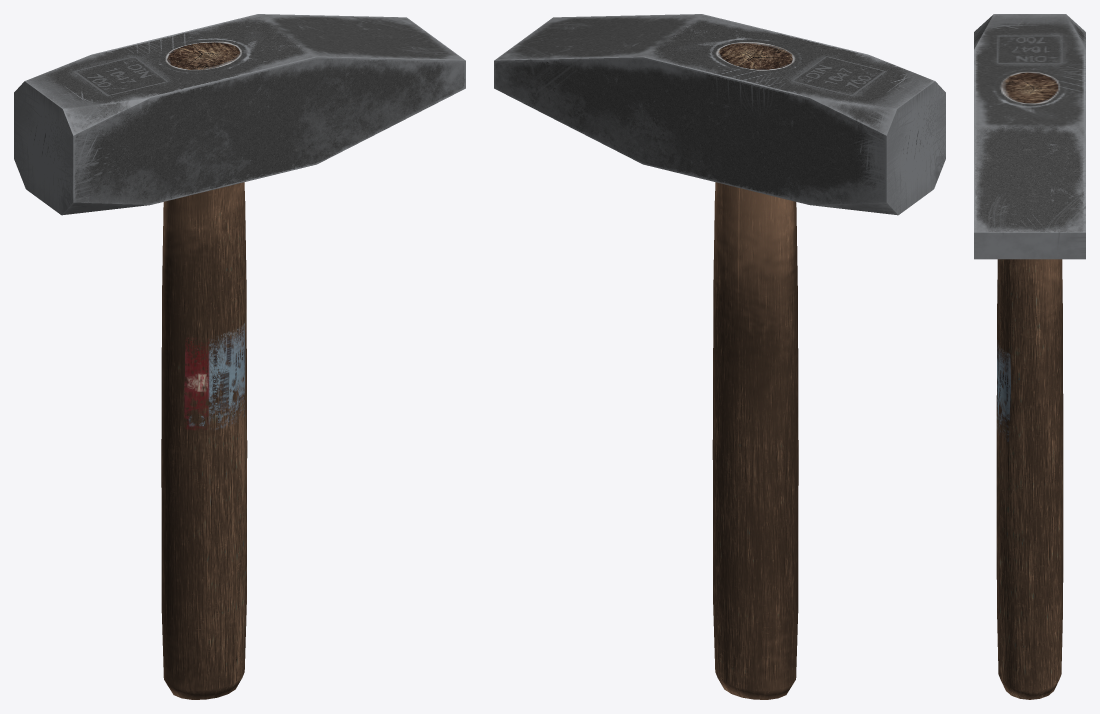
Rendered from hummerF.fbx.
3 views of the same model, side by side, from view 1: azimuth 30°, elevation 25°; view 2: azimuth 150°, elevation 25°; view 3: azimuth 270°, elevation 25° (orthographic). The views are drawn at different scales.
Visible parts, largest first — view 1: hammerHad_low, hend _low; view 2: hammerHad_low, hend _low; view 3: hend _low, hammerHad_low.
Part boxes in pixels (x1,y1,x2,y2): hammerHad_low: [14, 14, 465, 215]; hend _low: [161, 182, 247, 699]; hammerHad_low: [494, 14, 945, 215]; hend _low: [712, 182, 798, 699]; hend _low: [996, 259, 1063, 699]; hammerHad_low: [974, 14, 1085, 259].
Bounding box in the file's own units: 767 × 1179 × 200.
